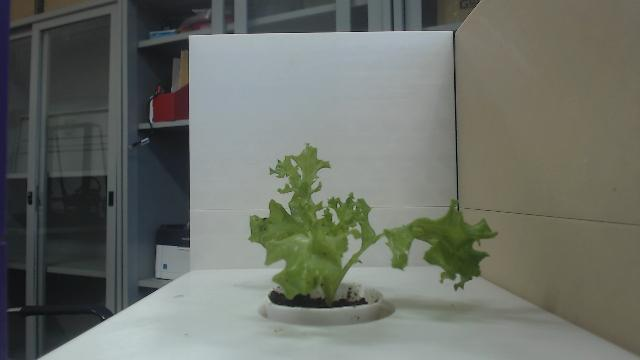Vegetative Stage: (247, 139, 498, 311)
